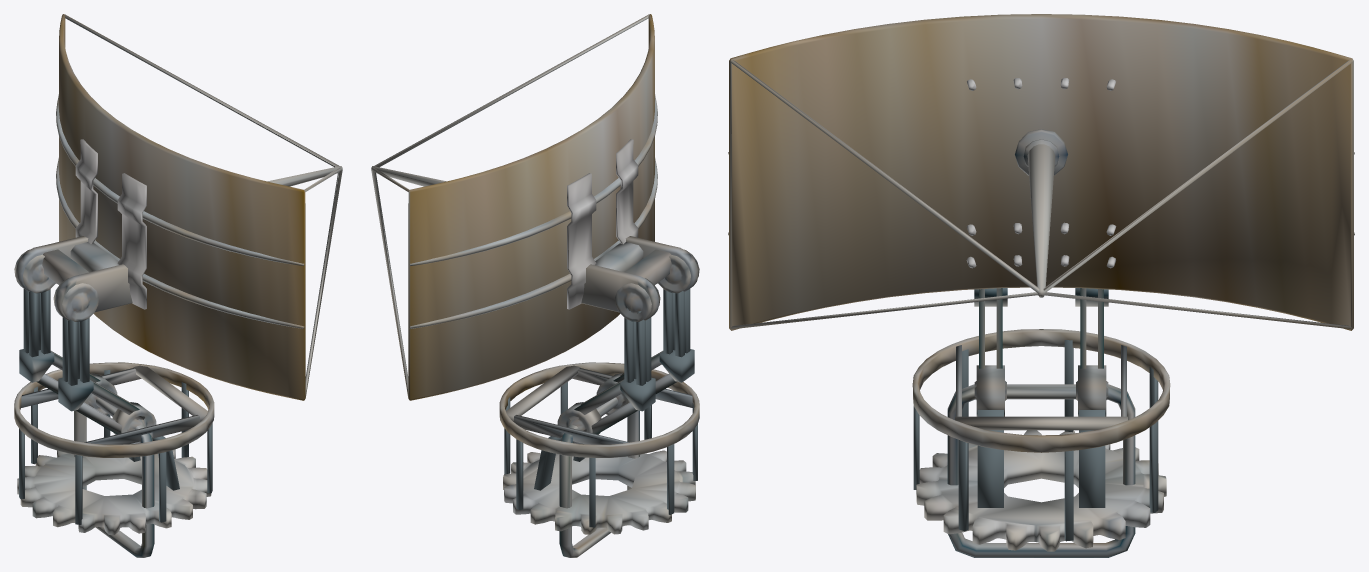
The model's file is radar.1.glb.
The picture shows the model from 3 angles, left to right: view 1: azimuth 30°, elevation 25°; view 2: azimuth 150°, elevation 25°; view 3: azimuth 270°, elevation 25°; orthographic projection. The views are drawn at different scales.
Parts seen in each view (by area): view 1: modelo; view 2: modelo; view 3: modelo.
Boxes of the visible parts, x1=… form: modelo: x1=14, y1=14, x2=342, y2=557; modelo: x1=371, y1=14, x2=699, y2=557; modelo: x1=728, y1=14, x2=1354, y2=557.
Bounding box in the file's own units: 3.03 × 3.87 × 4.07.
